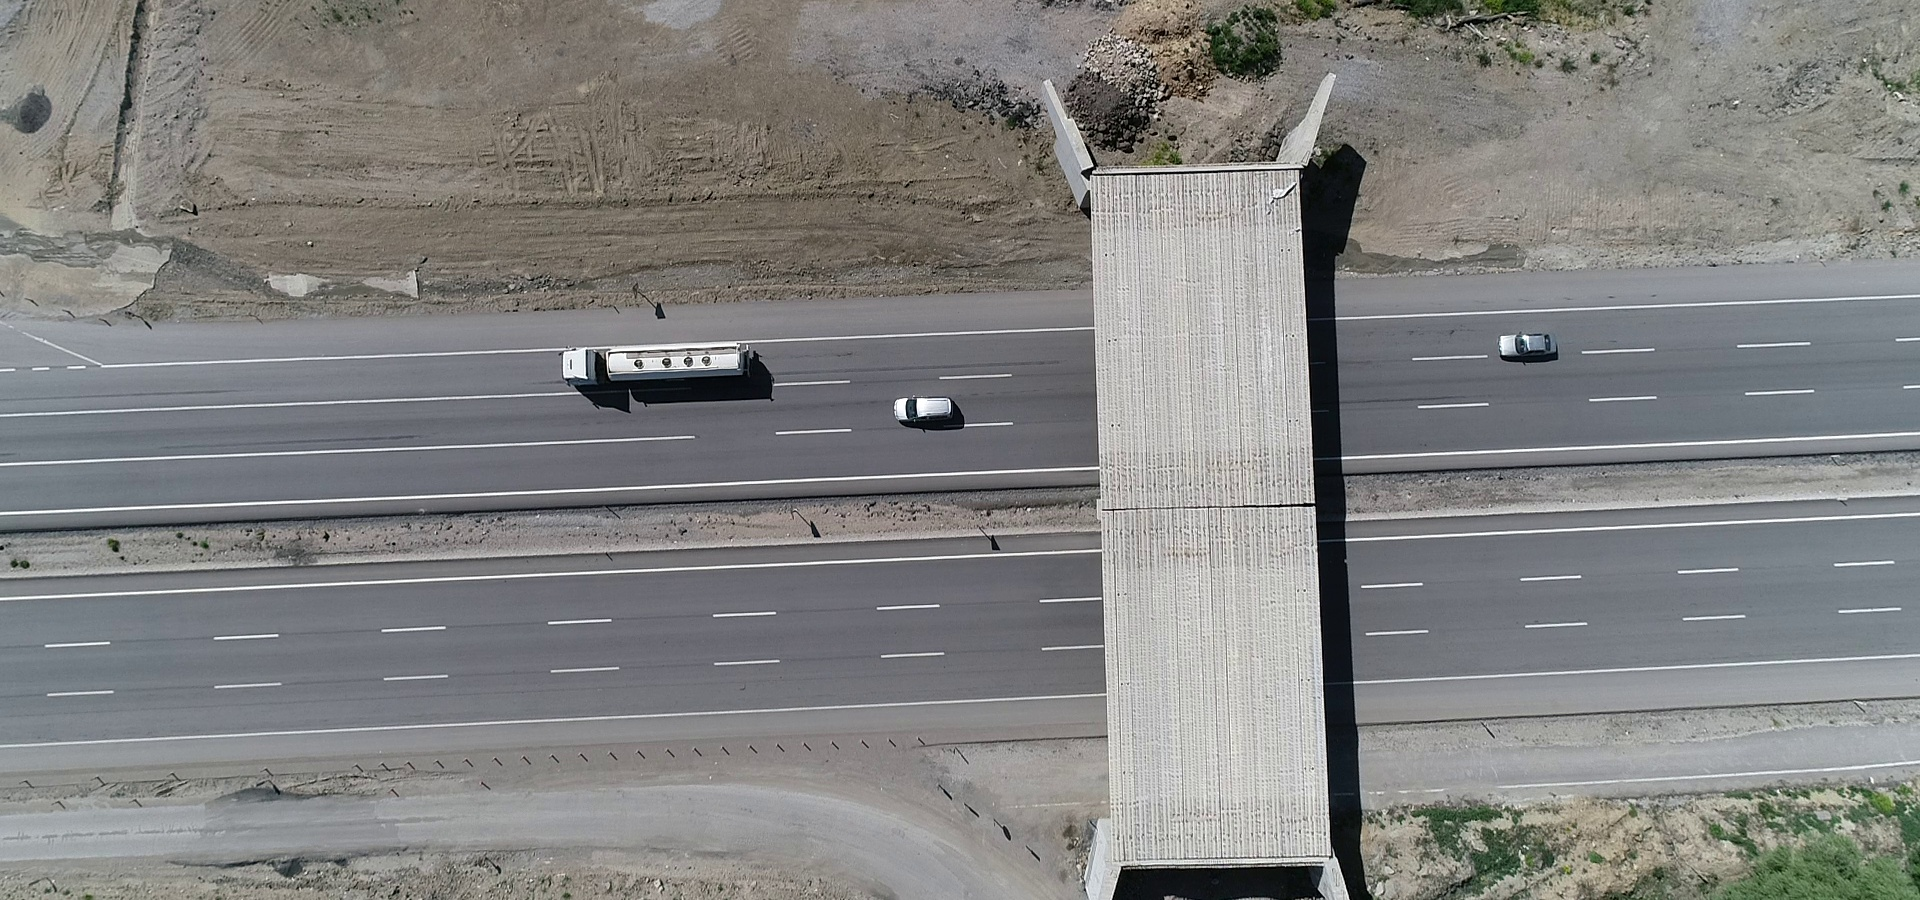arac: (555, 329, 760, 399), (889, 388, 967, 429), (1496, 326, 1569, 362)
